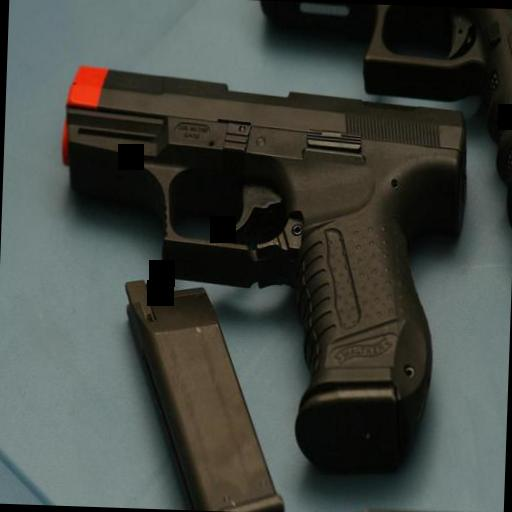Handgun: (48, 57, 470, 480)
